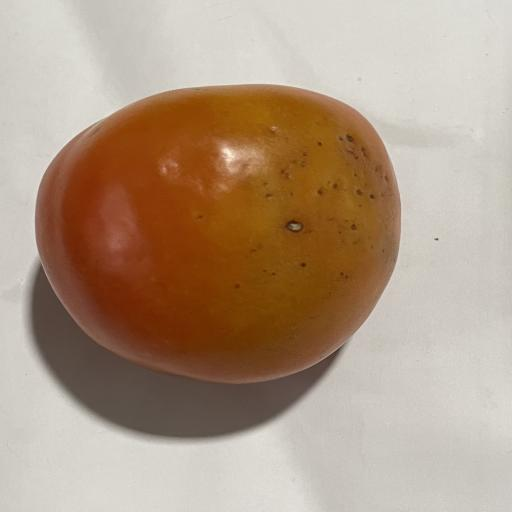unripe: (36, 85, 400, 383)
